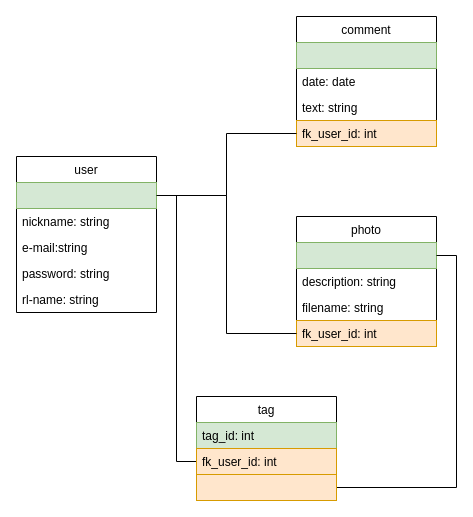
The diagram is 473 pixels wide and 517 high, and some of its shapes have lost their labels. Each missing label, with the centre of its shape:
comment_id: int: point (366, 55)
fk_photo_id: int: point (266, 487)
photo_id: int: point (366, 255)
user_id: int: point (86, 195)
